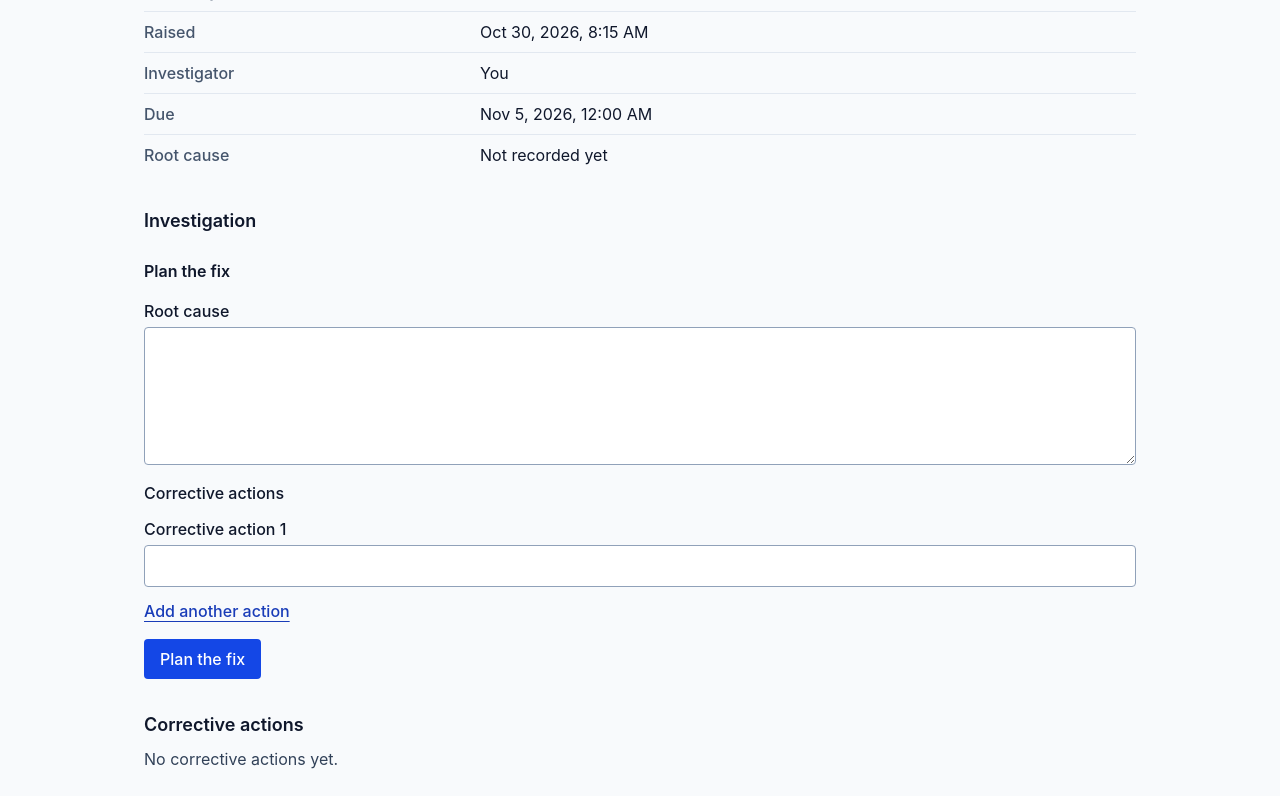
Test case: Investigation on the NCR page › lets the assigned investigator plan the fix with a root cause and several actions
(page scrolled)
Step 1. Type "Deburring step skipped" into the text box labelled "Root cause" → (640, 396), box [144,327,1136,465]
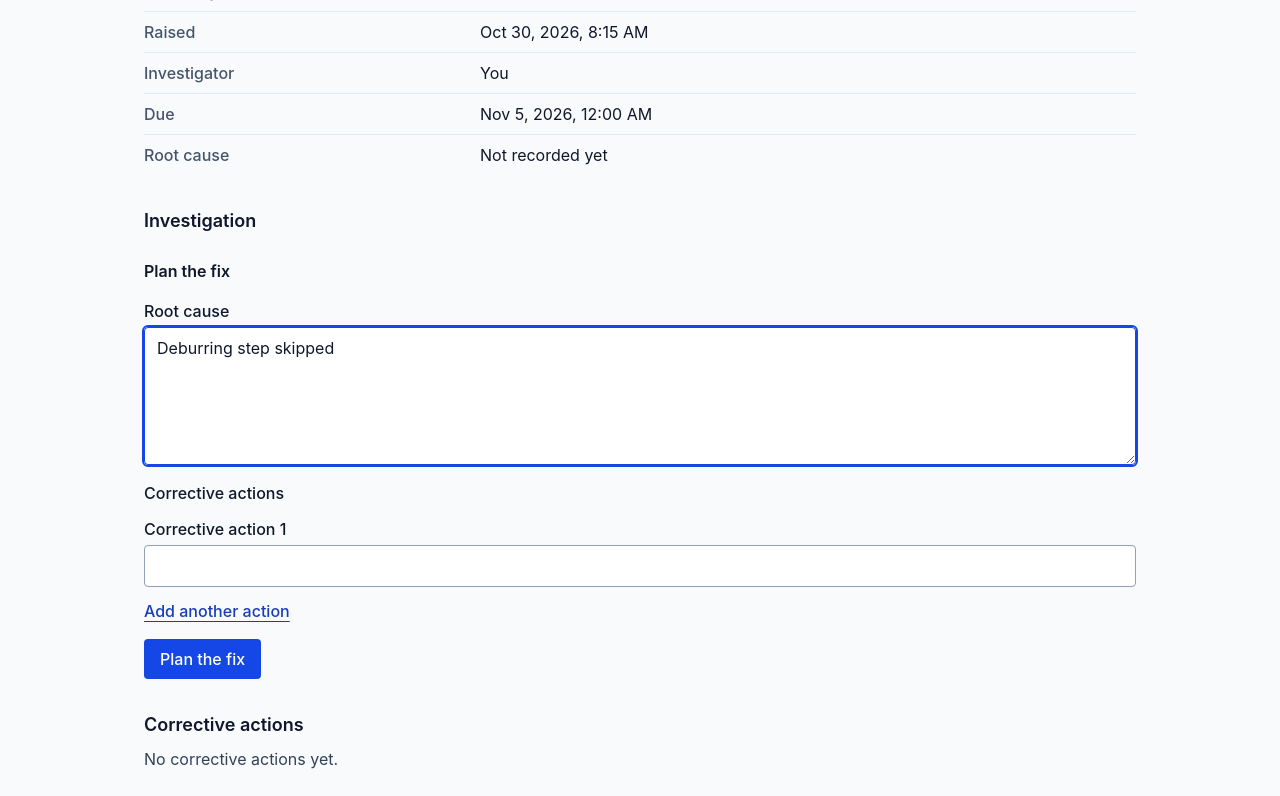
Step 2. Type "Deburr the flange" into the field labelled "Corrective action 1" → (640, 566), box [144,545,1136,587]
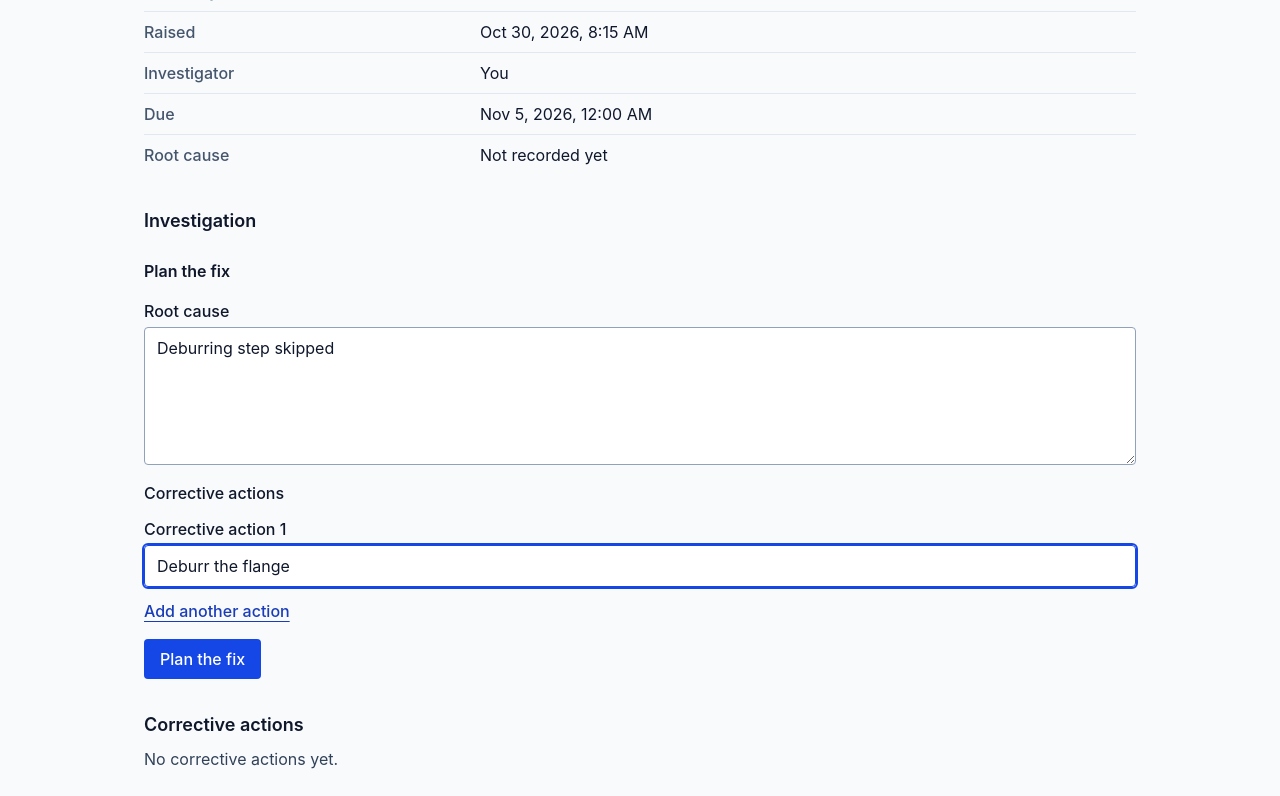
Step 3. Click the button "Add another action" → (217, 611), box [144,599,290,623]
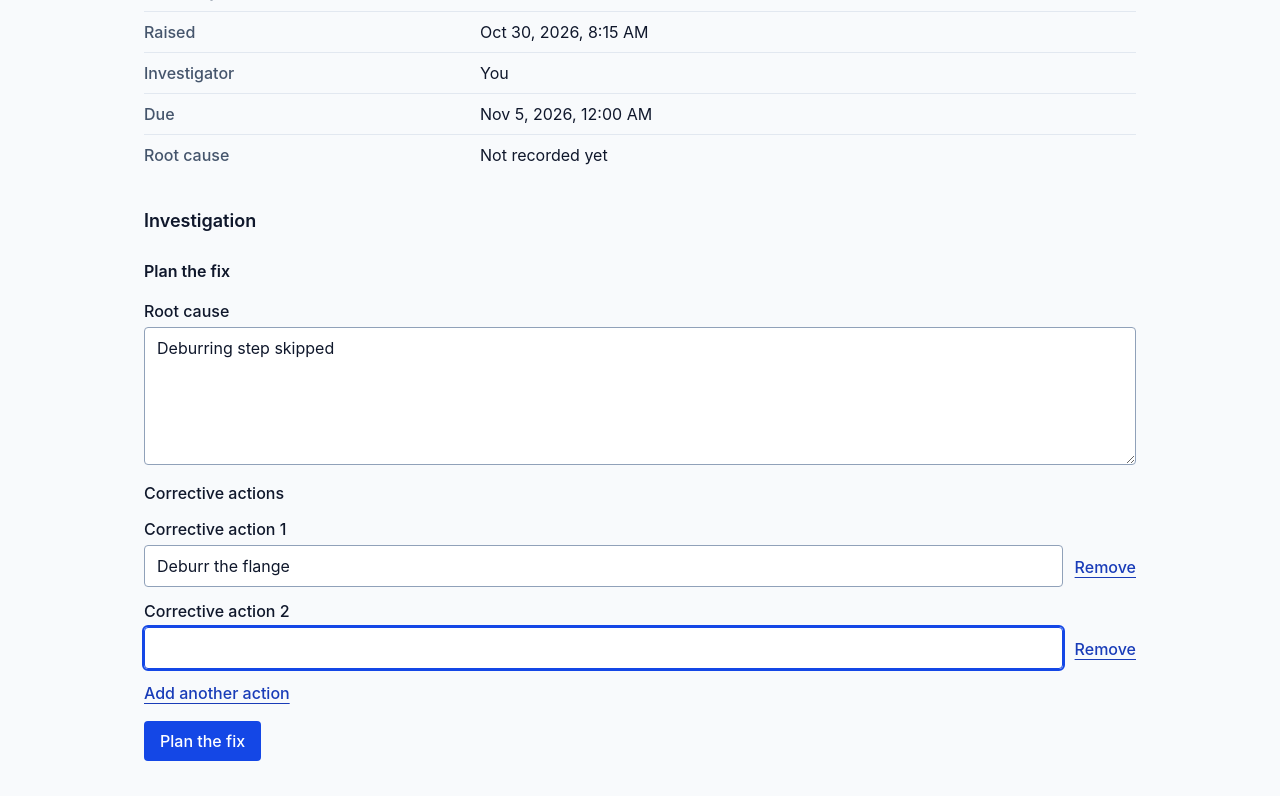
Step 4. Type "Update the checklist" into the field labelled "Corrective action 2" → (603, 648), box [144,627,1063,669]
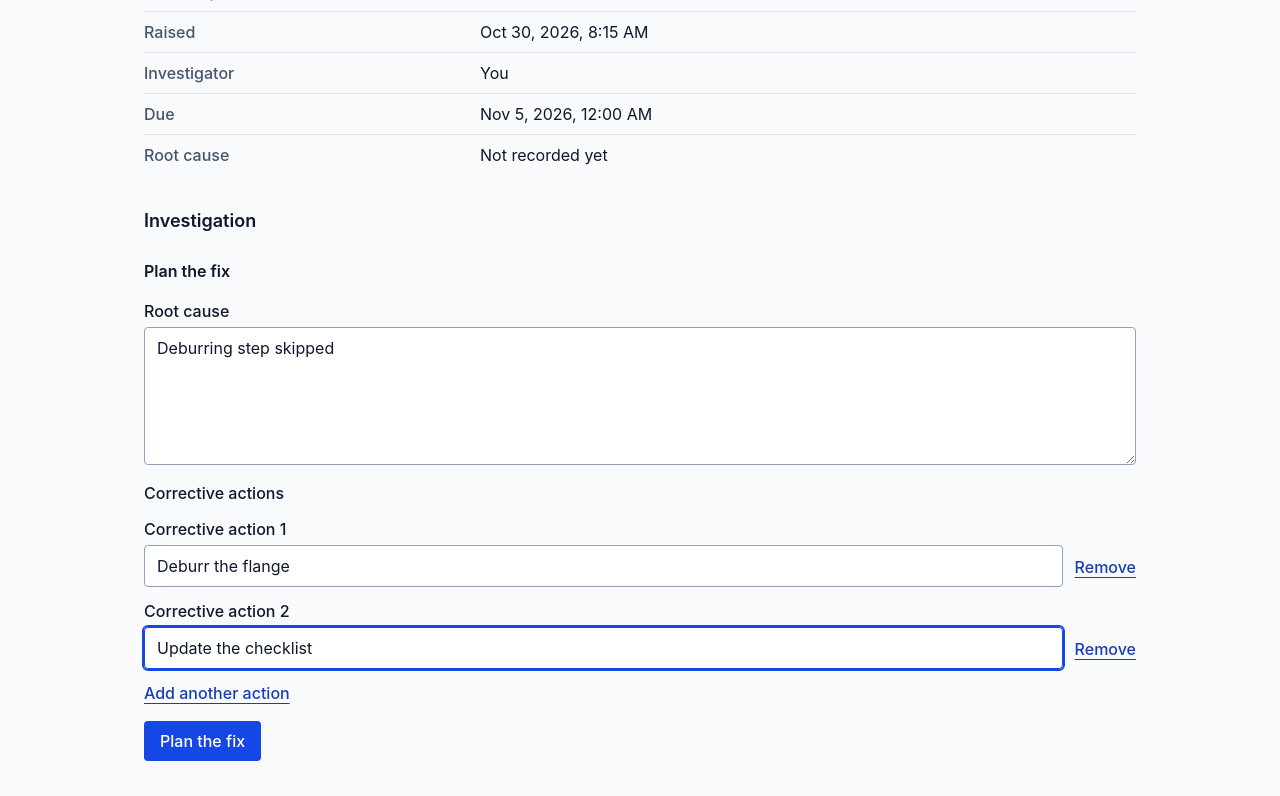
Step 5. Click the button "Plan the fix" → (203, 741), box [144,721,261,761]
(page scrolled)
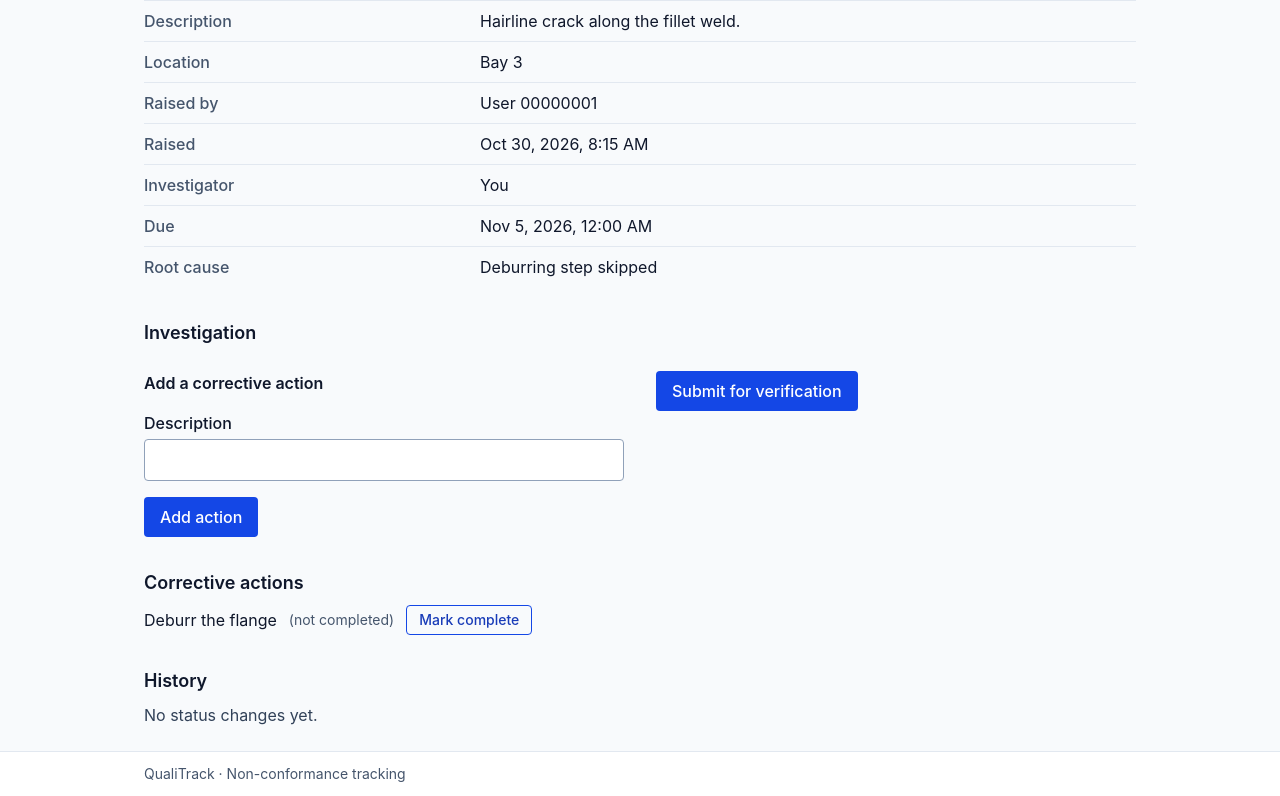
Result: the form "Add a corrective action" is shown at [144,371,624,537]
